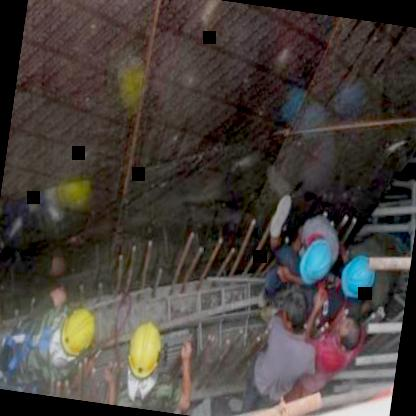head: (271, 286, 316, 339), (328, 308, 368, 356)
helmet: (121, 317, 168, 386), (292, 233, 342, 295), (55, 302, 99, 360), (336, 252, 380, 306)
